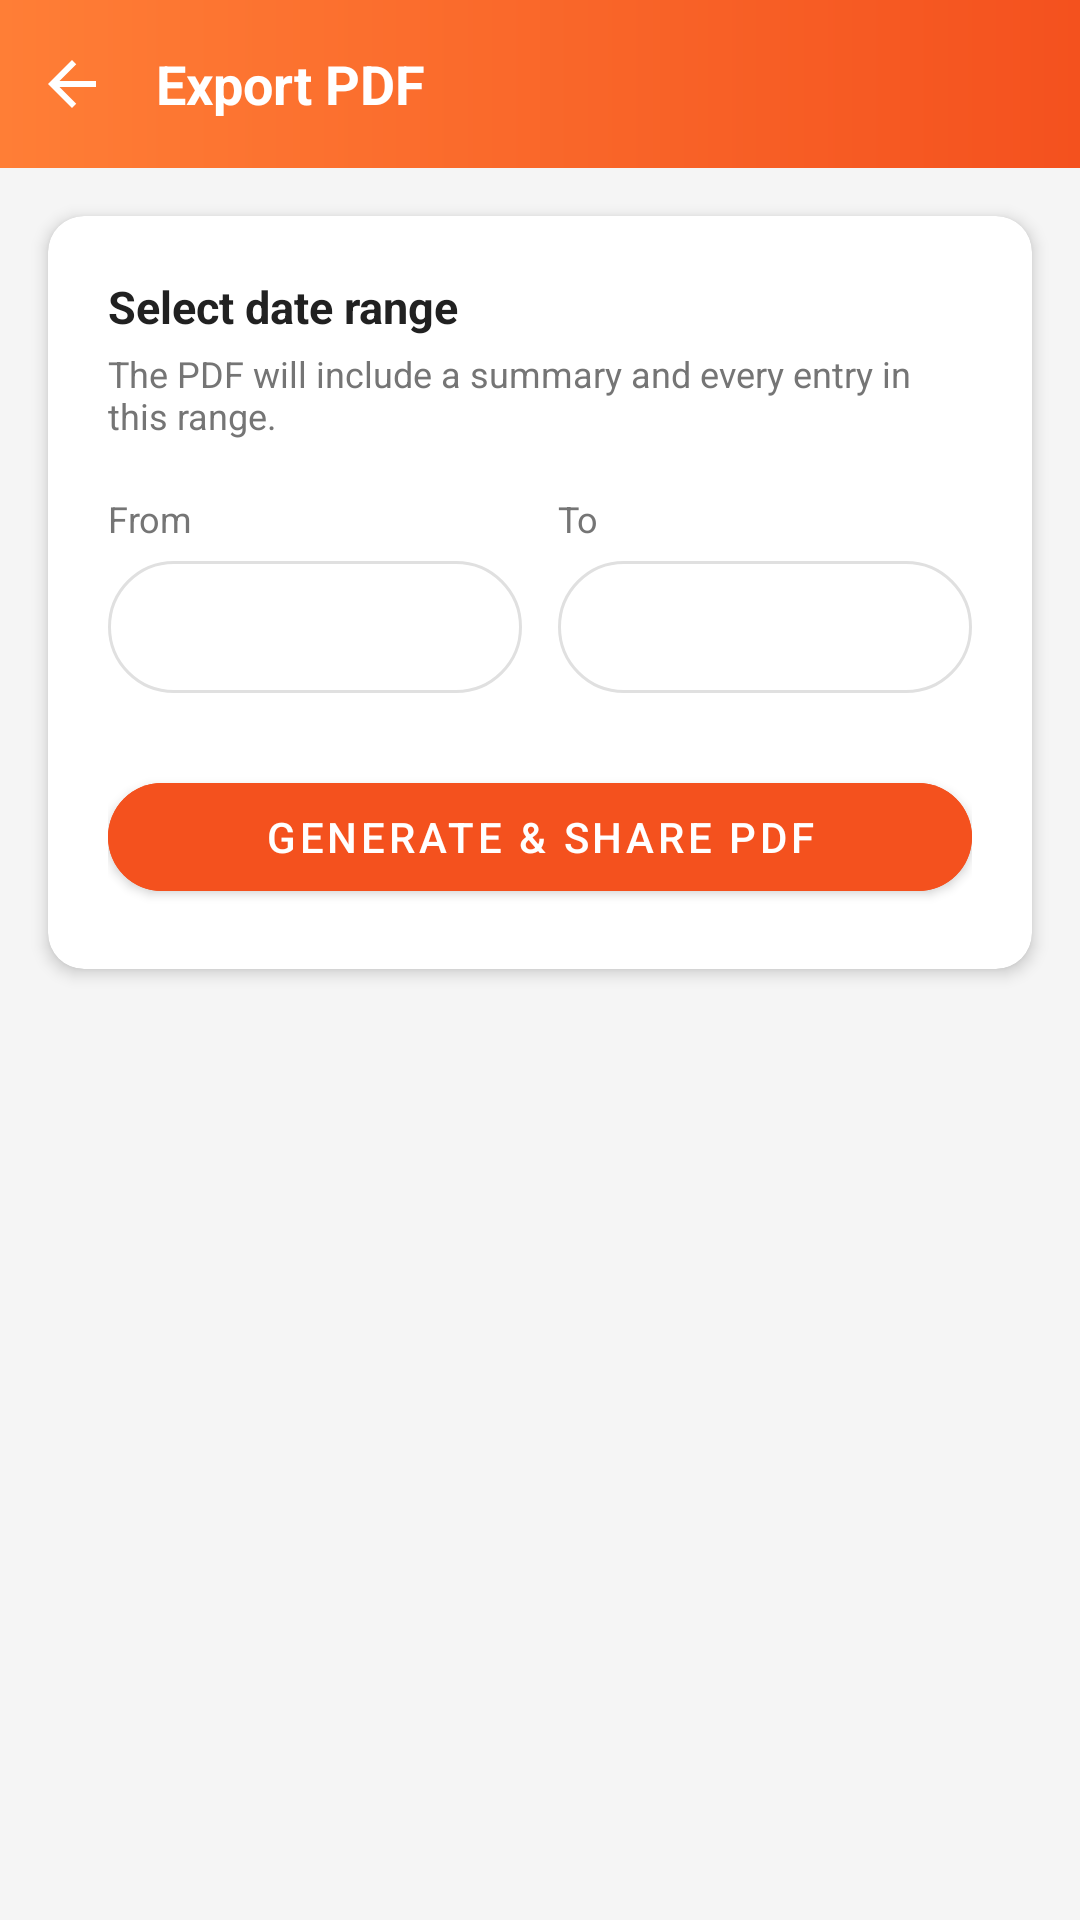

Named icons in this screenshot (1080*1920) and their bounding boxes, (x1, y1, x2, y2):
back: (48, 60, 96, 108)
